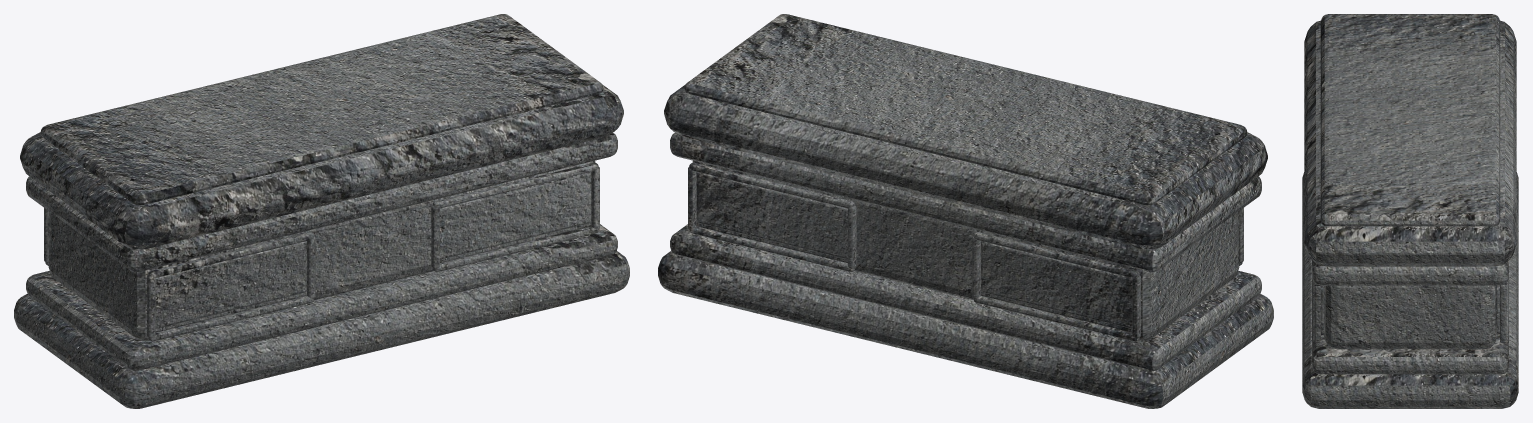
Rendered from stone-tomb-v04.glb.
The picture shows the model from 3 angles, left to right: view 1: azimuth 30°, elevation 25°; view 2: azimuth 150°, elevation 25°; view 3: azimuth 270°, elevation 25°; orthographic projection. The views are drawn at different scales.
Parts seen in each view (by area): view 1: Lid crown, Heavy fitted lid, Lower plinth, Sarcophagus body, Foot moulding, Upper moulding, Inset side panel, Inset side panel.001, Panel horizontal border.001, Panel horizontal border.003, Panel horizontal border, Panel horizontal border.002 (+2 smaller); view 2: Lid crown, Heavy fitted lid, Lower plinth, Sarcophagus body, Foot moulding, Upper moulding, Inset side panel.002, Inset side panel.003, Panel horizontal border.005, Panel horizontal border.007, Panel horizontal border.004, Panel horizontal border.006 (+2 smaller); view 3: Lid crown, Heavy fitted lid, Sarcophagus body, Lower plinth, Foot moulding, Upper moulding, Panel vertical border.003, Panel vertical border.007.
Part boxes in pixels (x1=…): Lid crown: x1=40, y1=14, x2=603, y2=205; Heavy fitted lid: x1=20, y1=84, x2=623, y2=249; Lower plinth: x1=14, y1=251, x2=629, y2=408; Sarcophagus body: x1=48, y1=160, x2=595, y2=340; Foot moulding: x1=26, y1=224, x2=617, y2=370; Upper moulding: x1=26, y1=132, x2=617, y2=271; Inset side panel: x1=155, y1=241, x2=306, y2=328; Inset side panel.001: x1=440, y1=172, x2=591, y2=259; Panel horizontal border.001: x1=148, y1=232, x2=314, y2=277; Panel horizontal border.003: x1=433, y1=162, x2=598, y2=208; Panel horizontal border: x1=148, y1=295, x2=314, y2=341; Panel horizontal border.002: x1=433, y1=226, x2=598, y2=271; Lid crown: x1=684, y1=14, x2=1247, y2=205; Heavy fitted lid: x1=664, y1=84, x2=1267, y2=249; Lower plinth: x1=658, y1=251, x2=1273, y2=408; Sarcophagus body: x1=692, y1=160, x2=1239, y2=340; Foot moulding: x1=670, y1=224, x2=1261, y2=370; Upper moulding: x1=670, y1=132, x2=1261, y2=271; Inset side panel.002: x1=981, y1=241, x2=1132, y2=328; Inset side panel.003: x1=696, y1=172, x2=847, y2=259; Panel horizontal border.005: x1=973, y1=232, x2=1139, y2=277; Panel horizontal border.007: x1=689, y1=162, x2=854, y2=208; Panel horizontal border.004: x1=973, y1=295, x2=1139, y2=341; Panel horizontal border.006: x1=689, y1=226, x2=854, y2=271; Lid crown: x1=1320, y1=14, x2=1500, y2=226; Heavy fitted lid: x1=1304, y1=20, x2=1516, y2=266; Sarcophagus body: x1=1323, y1=285, x2=1497, y2=349; Lower plinth: x1=1302, y1=172, x2=1518, y2=408; Foot moulding: x1=1312, y1=277, x2=1508, y2=374; Upper moulding: x1=1312, y1=260, x2=1508, y2=285; Panel vertical border.003: x1=1314, y1=284, x2=1320, y2=340; Panel vertical border.007: x1=1500, y1=284, x2=1506, y2=340.
Size of the model in its own units: 2.45 by 0.961 by 1.
2 materials, 1 textured.
